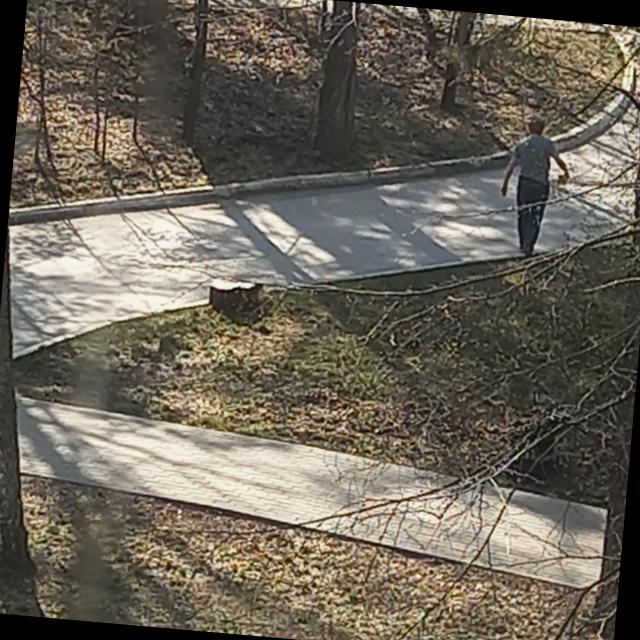person: (494, 112, 576, 257)
